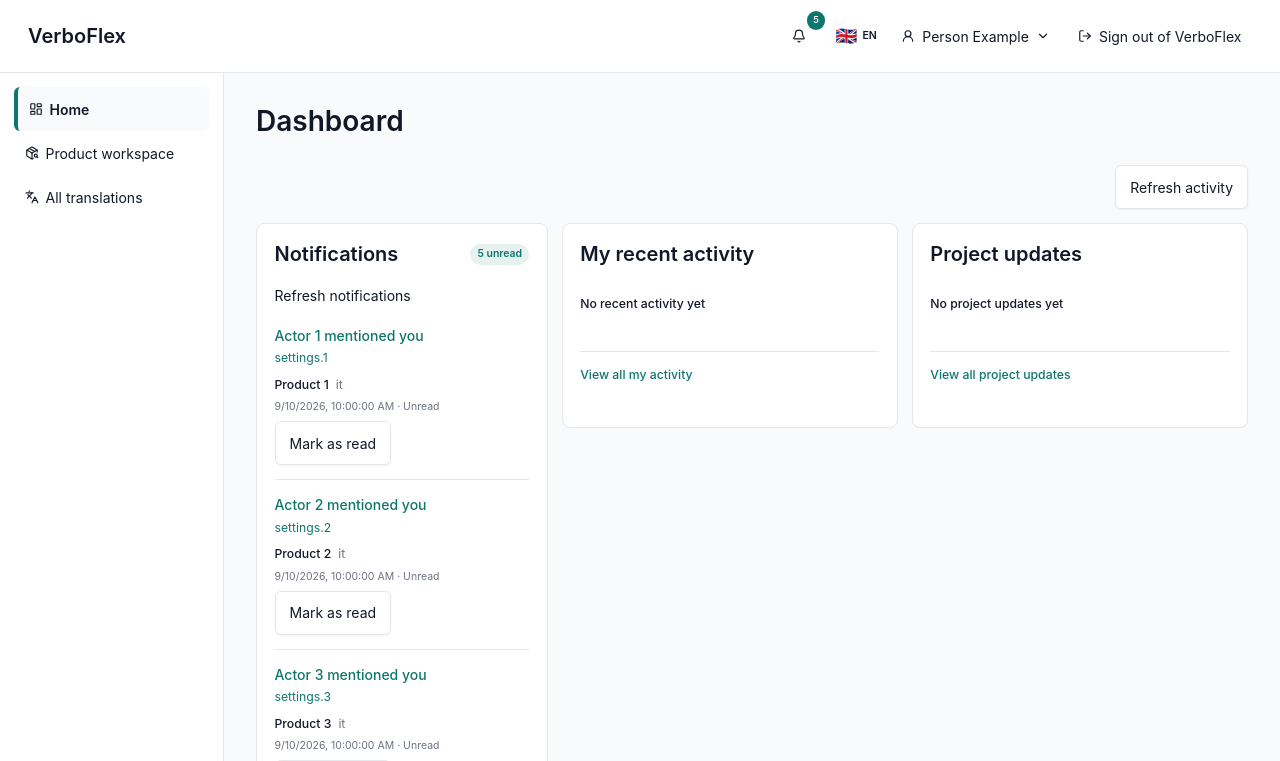
Test: authenticated application shell › opens the five newest generated notifications without implicitly reading them
Click the button named "Notifications, 5 unread notifications" at [799, 36], box [777, 14, 821, 58]
(page scrolled)
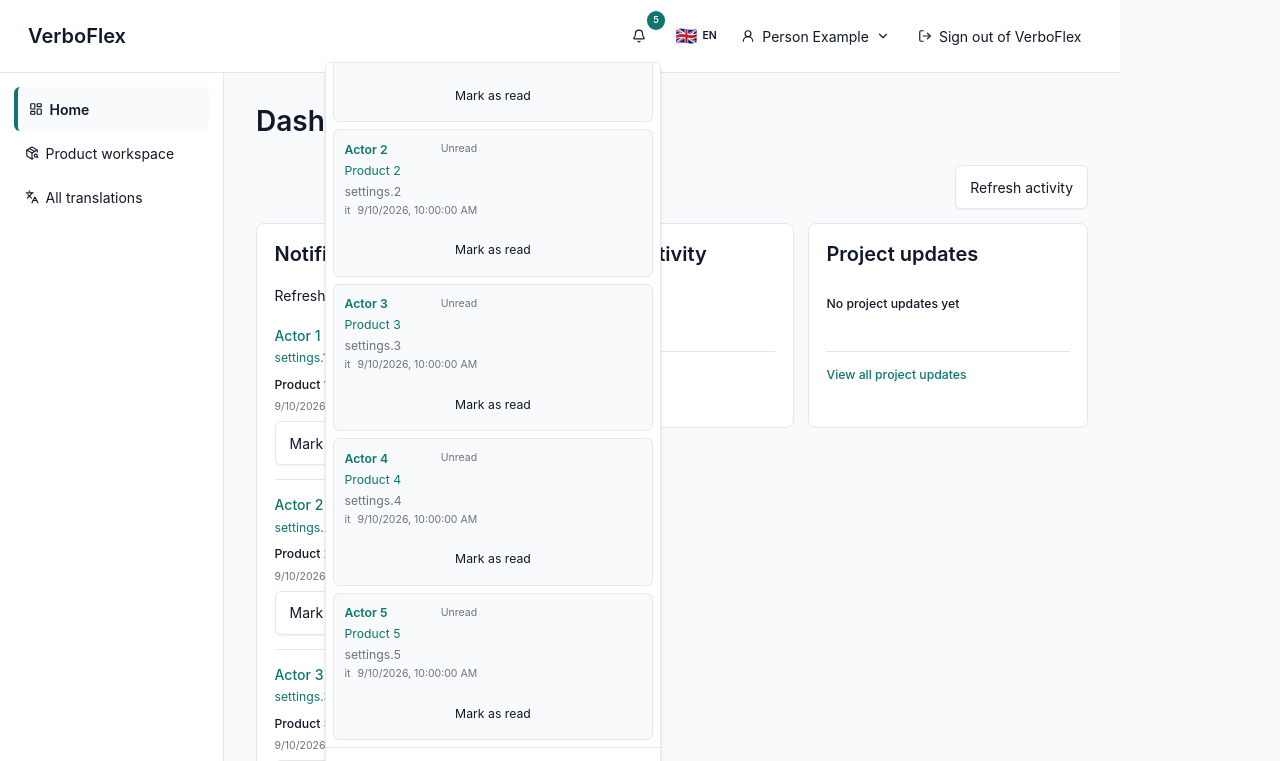
Now the text "it" is shown 5 times
